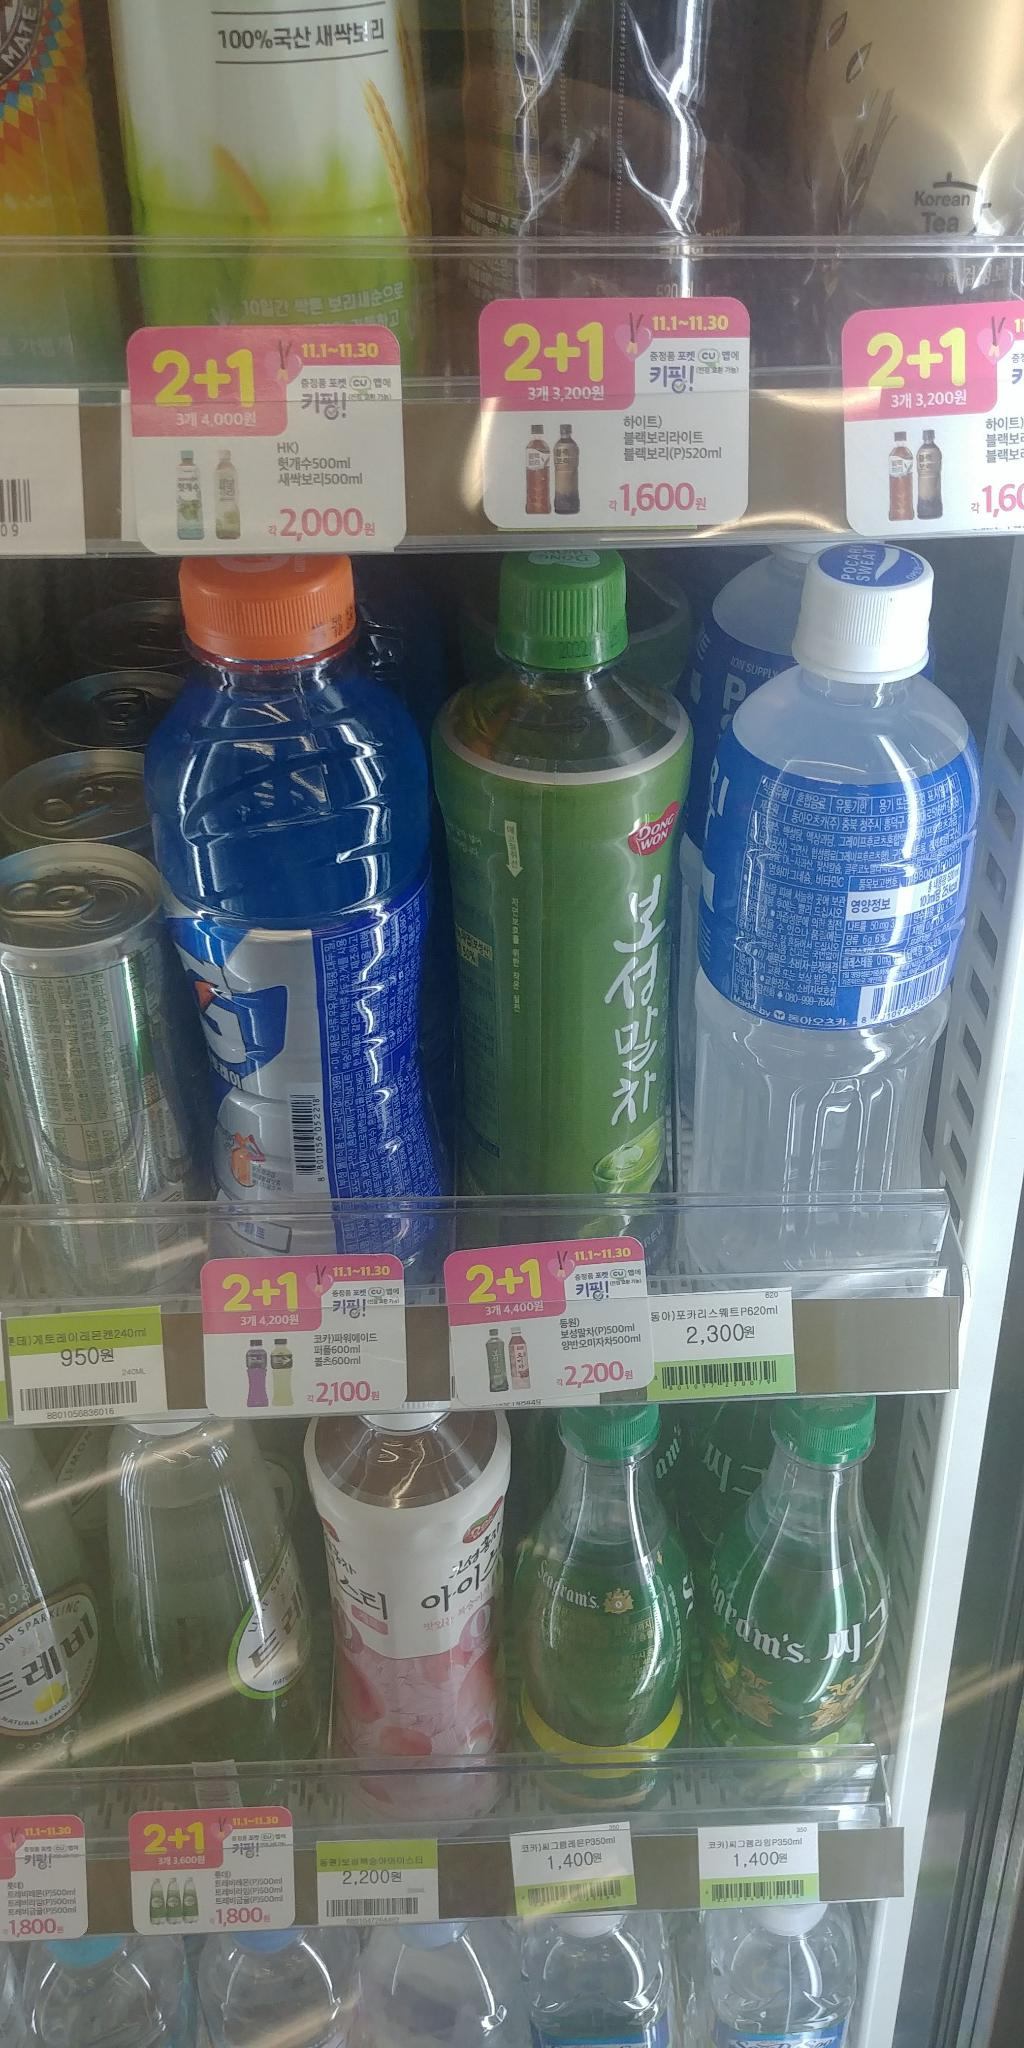pocarisweat: (692, 515, 974, 1314)
